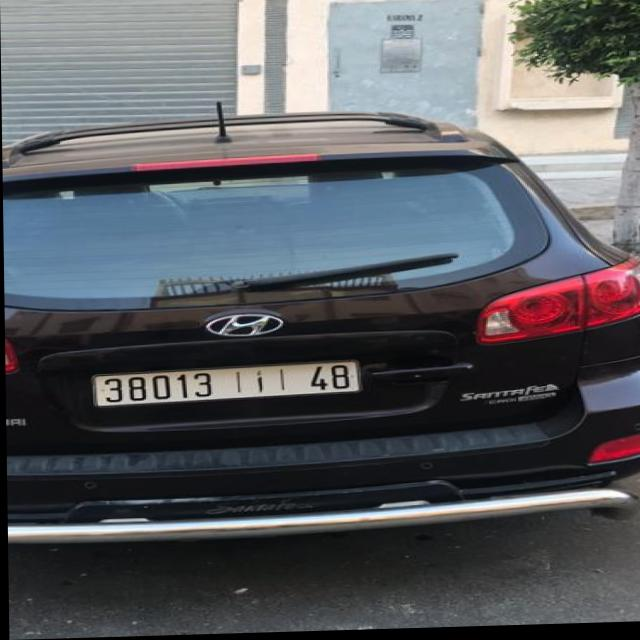License-Plate: (91, 363, 358, 407)
